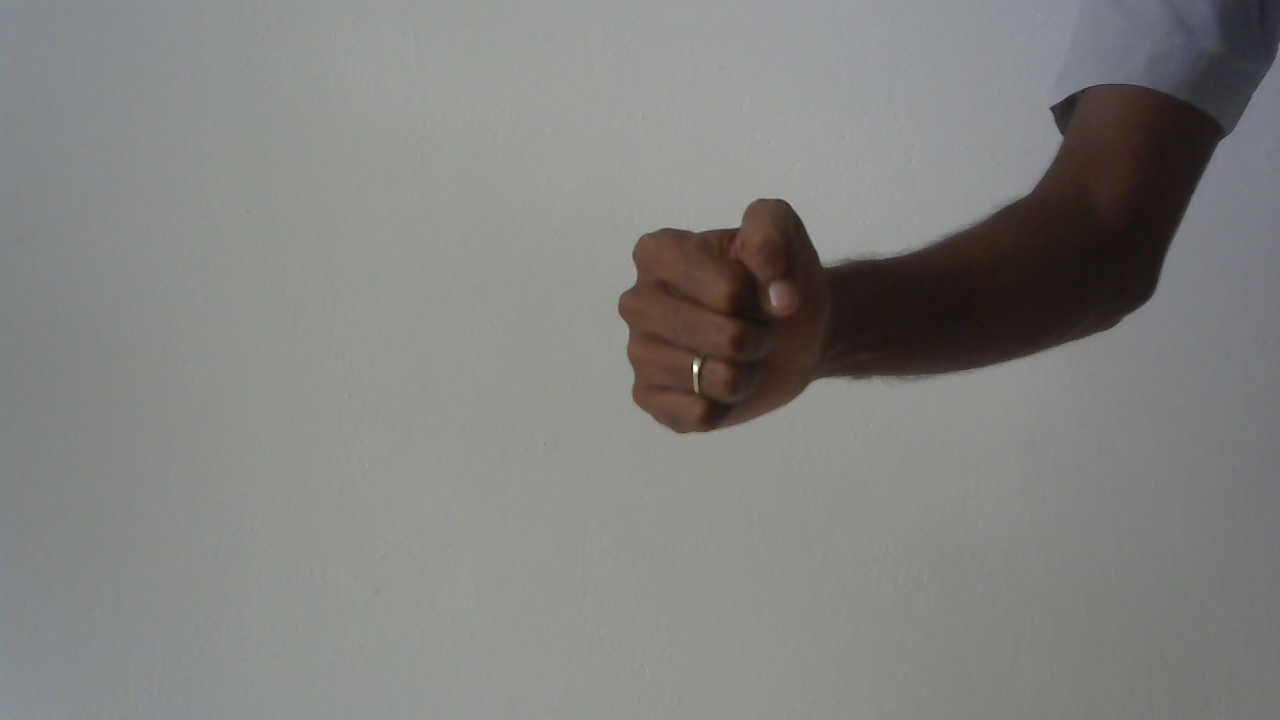yes: (608, 185, 850, 463)
